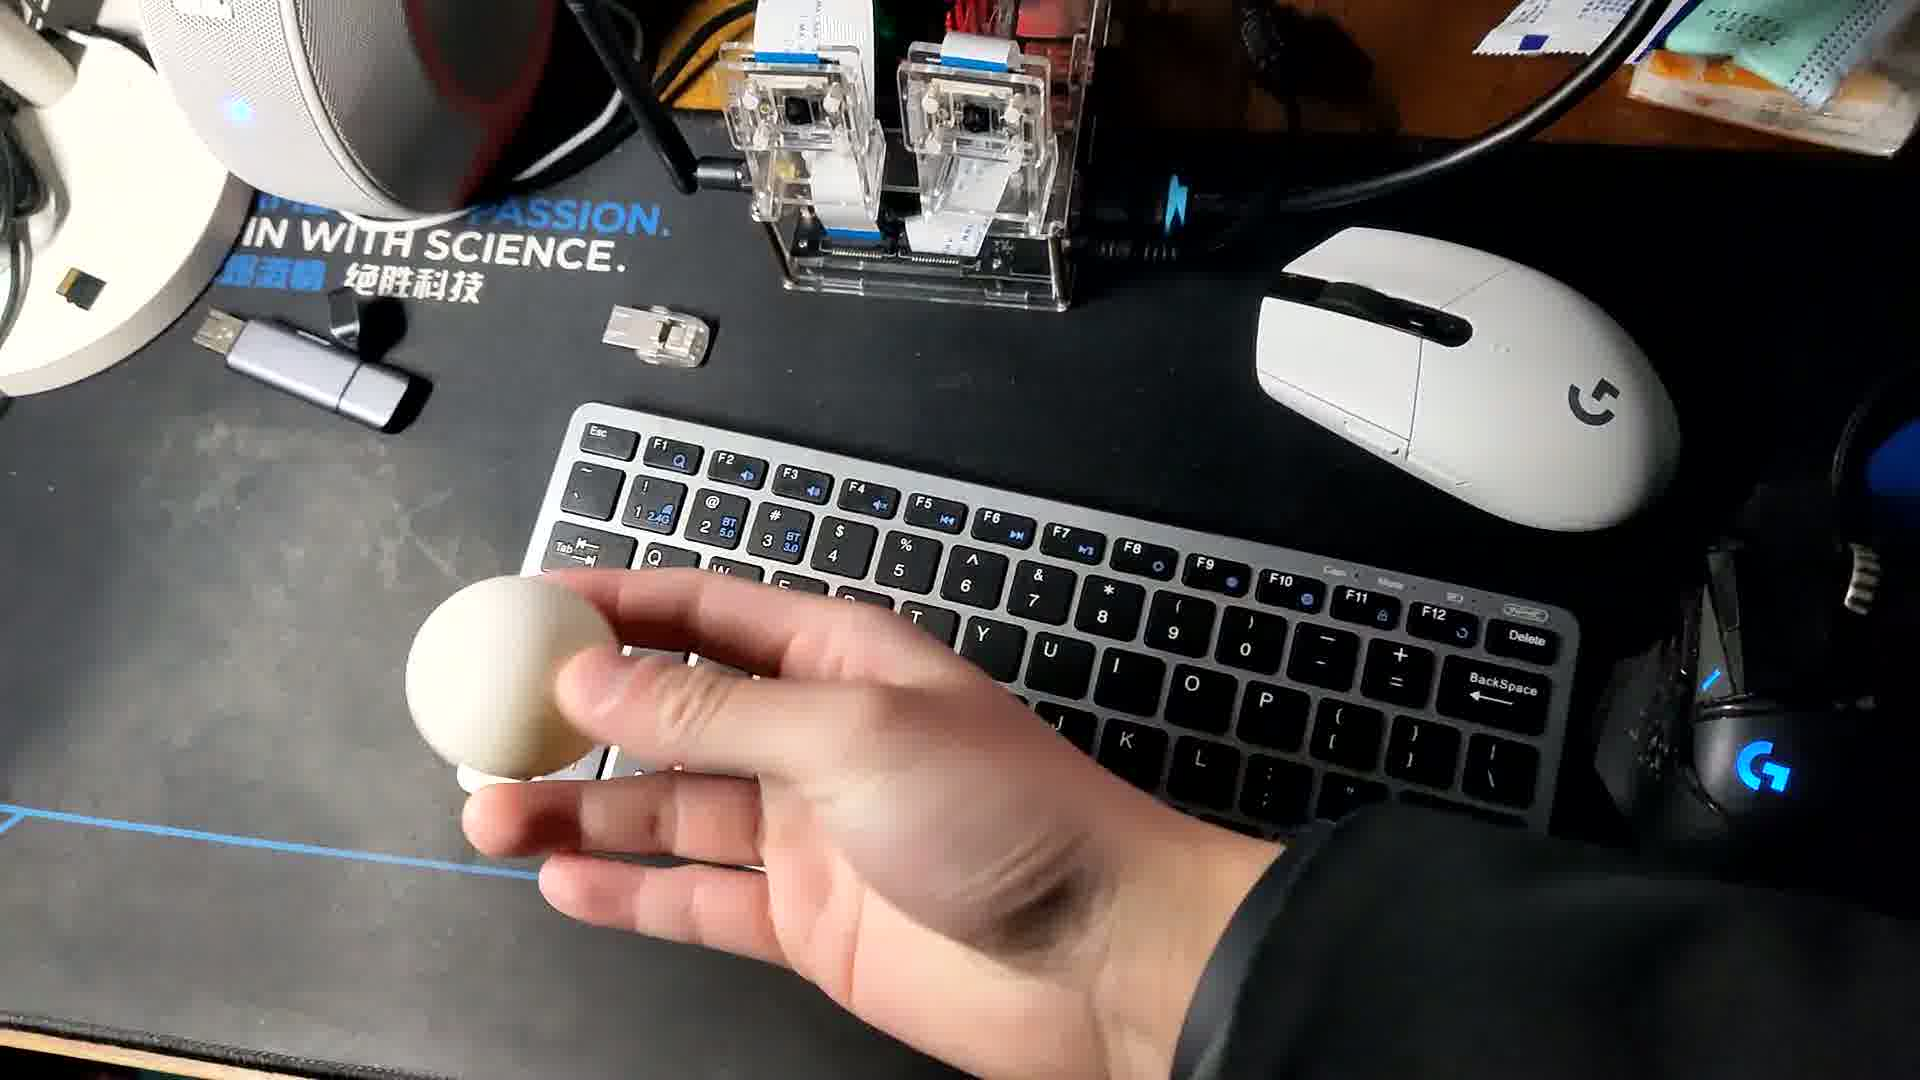Ball: (406, 574, 621, 771)
